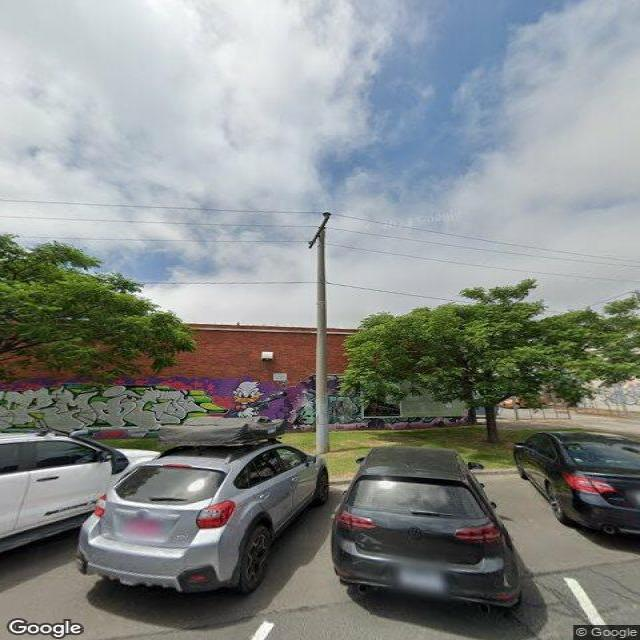concrete-pole: (308, 231, 332, 457)
crossarm: (306, 211, 333, 251)
